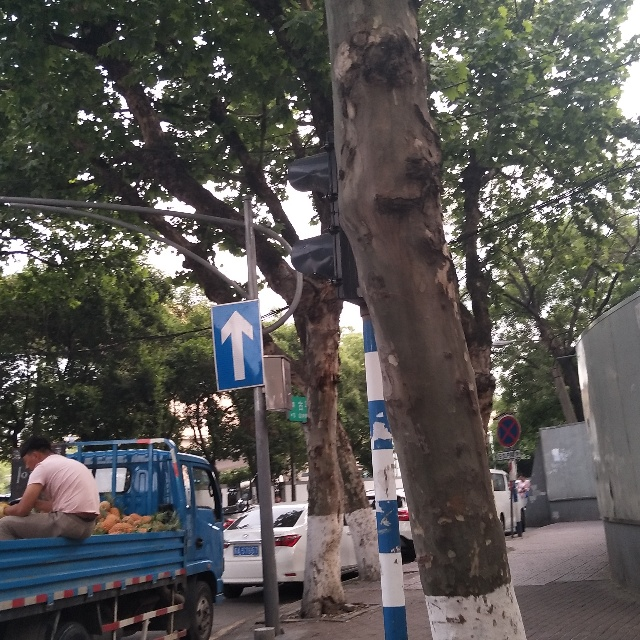straight: (209, 299, 264, 387)
